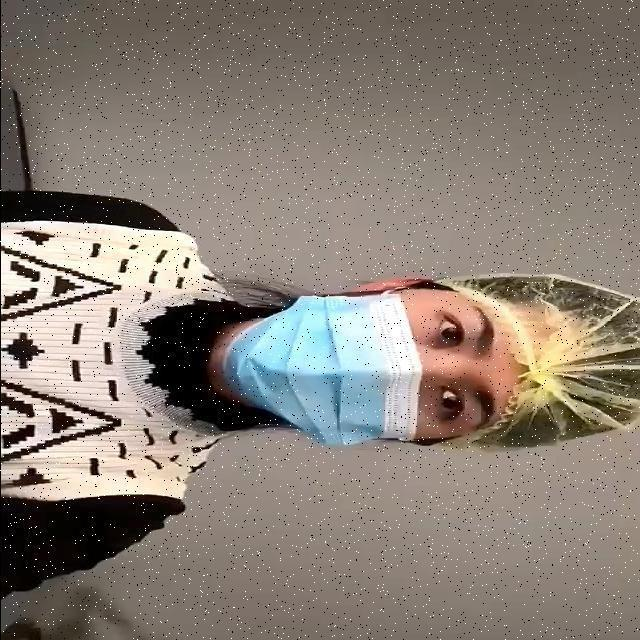gloves: (497, 272, 640, 438)
mask: (269, 286, 419, 442)
